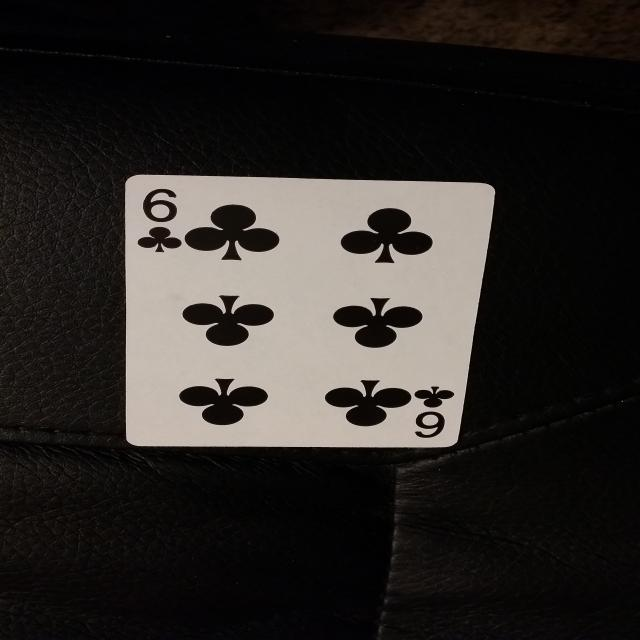6c: (130, 180, 191, 258), (402, 379, 458, 443)
